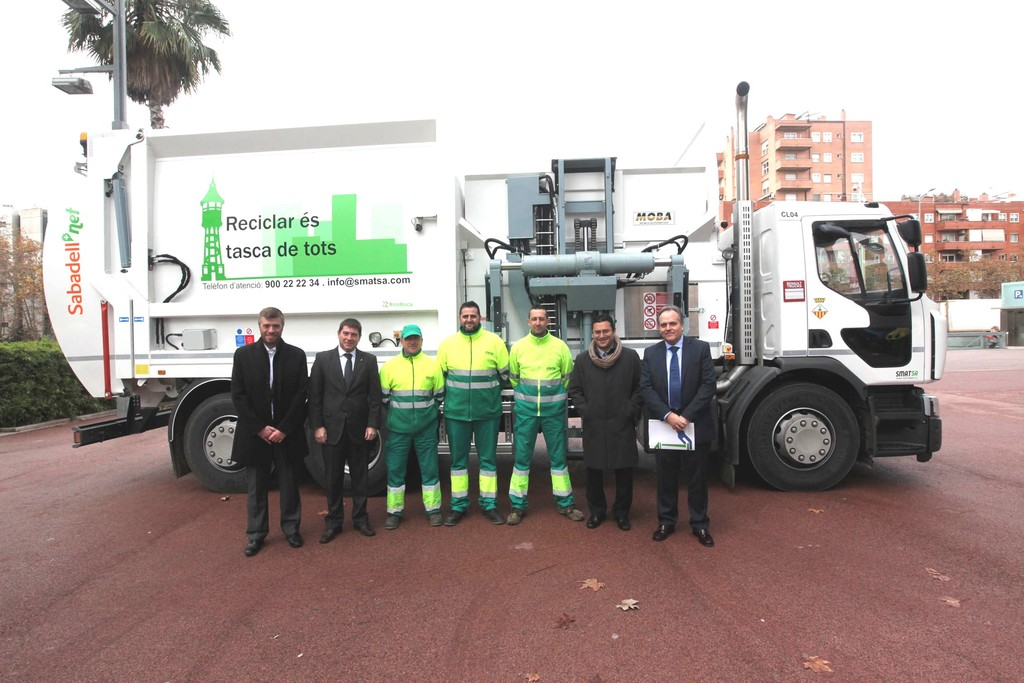Person: (228, 306, 308, 557), (638, 305, 718, 549), (306, 319, 385, 545), (566, 314, 645, 532), (435, 300, 510, 526), (510, 305, 584, 526), (378, 321, 445, 530)
